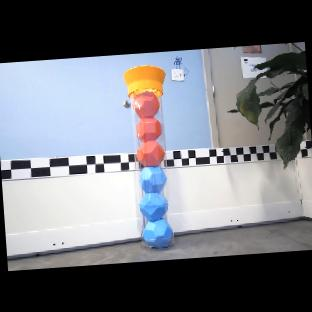V5_BLUE: (141, 216, 174, 248), (138, 190, 169, 218), (138, 164, 166, 191)
V5_RED: (132, 113, 162, 140), (136, 139, 164, 166), (132, 88, 159, 114)
